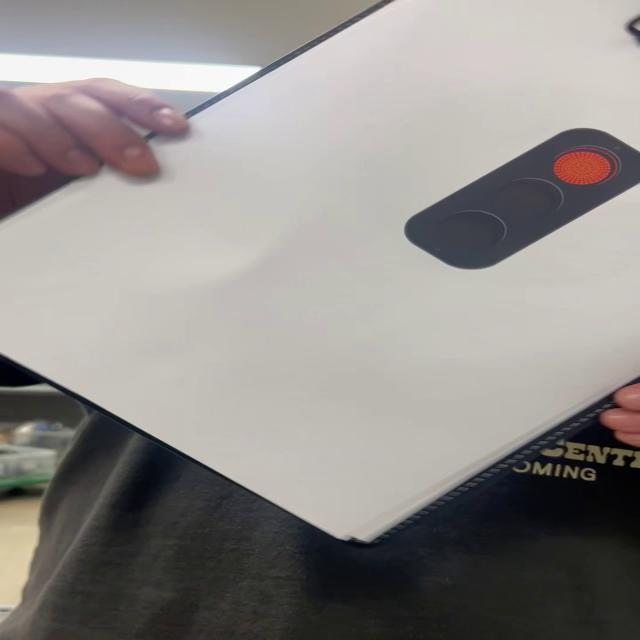red: (393, 130, 640, 273)
